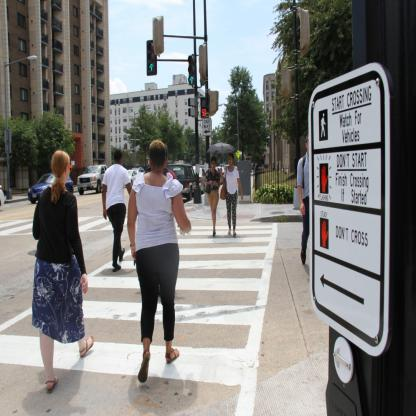Crosswalk: (1, 218, 305, 415)
